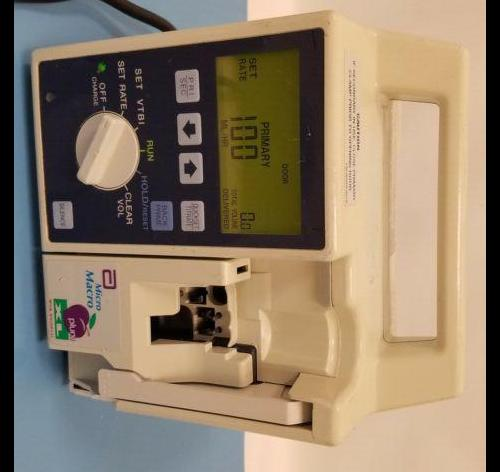plumxl1: (29, 19, 468, 443)
